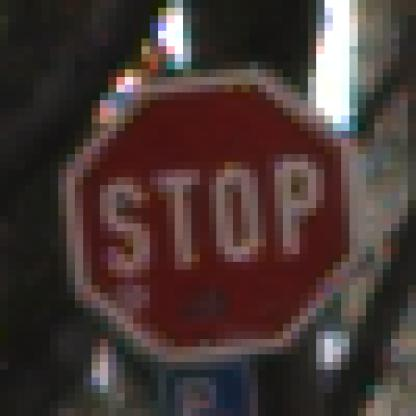stop: (60, 81, 359, 362)
